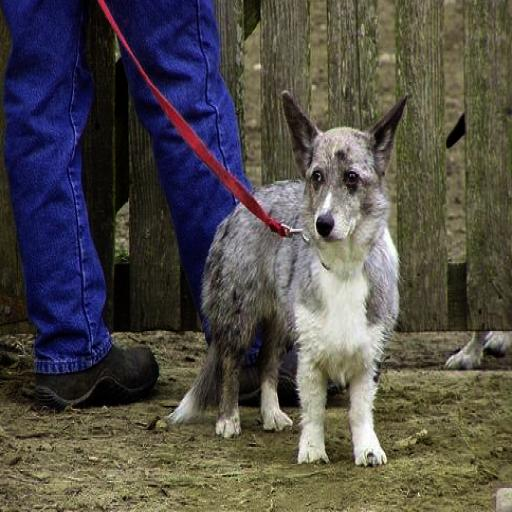dog_face: (277, 87, 412, 244)
